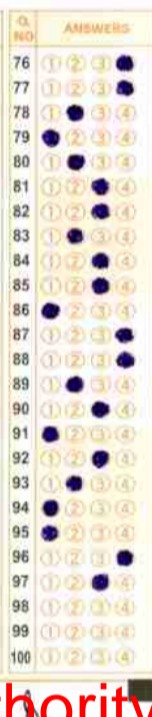filled circles: (92, 450, 109, 468), (42, 129, 59, 147), (116, 351, 134, 368), (42, 500, 59, 517), (92, 277, 109, 294), (66, 227, 83, 244), (66, 104, 83, 121), (116, 54, 133, 71), (91, 203, 109, 219), (91, 401, 109, 417), (41, 302, 59, 318), (66, 376, 83, 392), (92, 573, 108, 590), (67, 154, 84, 170), (42, 426, 59, 442), (116, 550, 133, 566), (91, 178, 108, 194), (116, 79, 133, 95), (115, 327, 133, 342), (92, 252, 108, 268), (66, 475, 82, 491), (41, 525, 58, 540)
